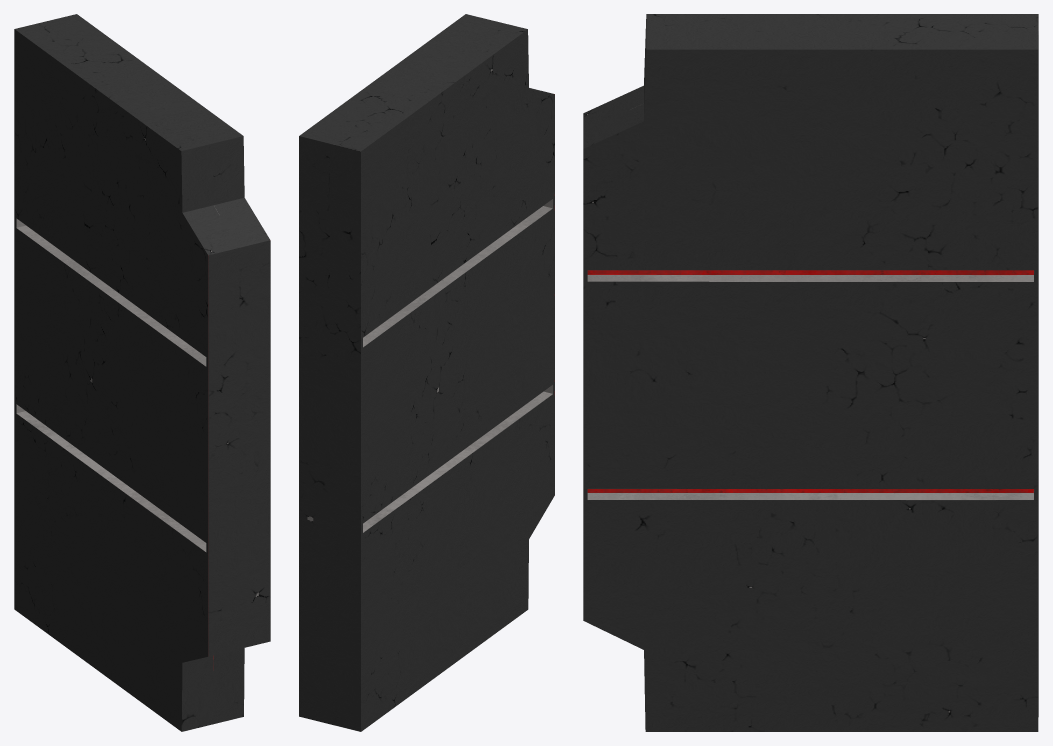
Rendered from Back_DoorFrame.fbx.
3 views of the same model, side by side, from view 1: azimuth 30°, elevation 25°; view 2: azimuth 150°, elevation 25°; view 3: azimuth 270°, elevation 25° (orthographic). The views are drawn at different scales.
Visible parts, largest first — view 1: MS_BackDoorLeft; view 2: MS_BackDoorLeft; view 3: MS_BackDoorLeft.
Part boxes in pixels (x1,y1,x2,y2): MS_BackDoorLeft: [14, 14, 270, 731]; MS_BackDoorLeft: [299, 14, 554, 731]; MS_BackDoorLeft: [583, 14, 1038, 731].
Size of the model in its own units: 8.95 by 79.76 by 48.27.
Materials: 1 (1 with a texture image).
